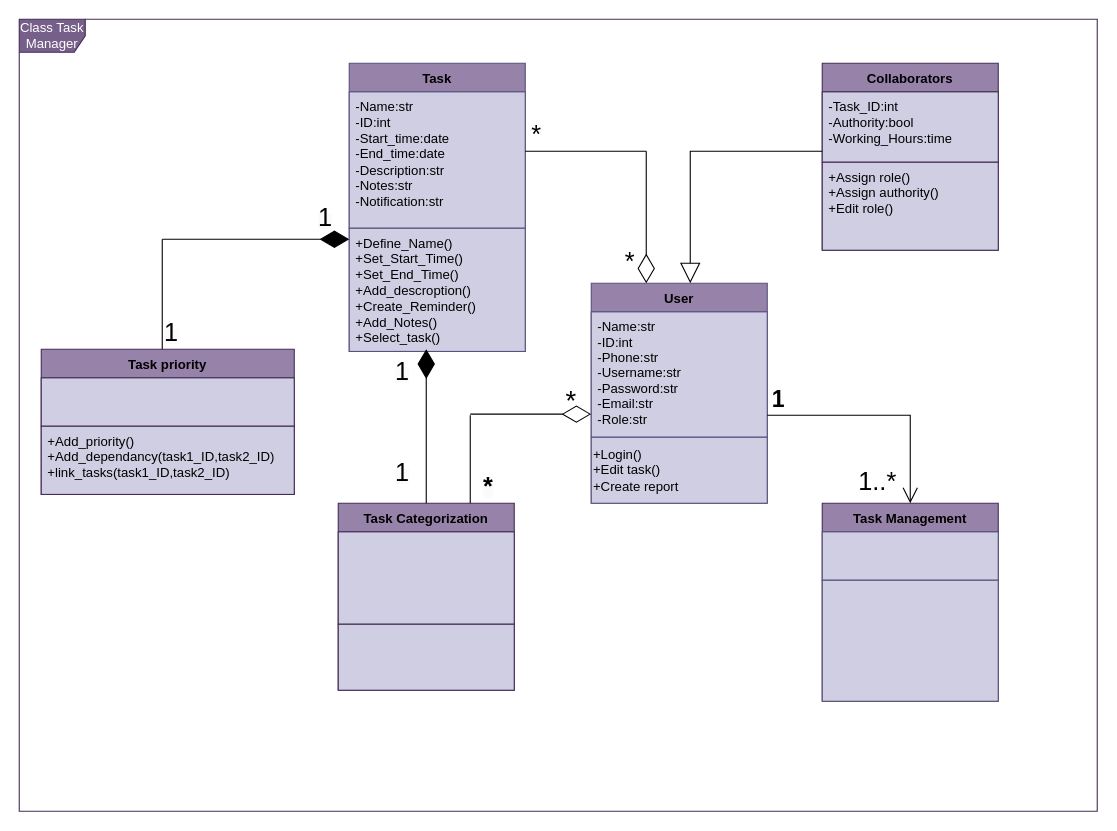
The diagram is 1117 pixels wide and 831 high, and some of its shapes have lost their labels. Each missing label, with the box of its shape:
+Add_collaborators() +Create_category() +Delete() +Recuring() +Mark_As_Done(): (821, 579, 998, 701)
+Define_Nme() +Create_Description() +Add_Deadline: (337, 623, 514, 690)
+Task_ID:int +priority_level:int: (40, 377, 294, 426)
-Name:str -Task_ID:int -User_ID:int -User_role:str -Description: (337, 531, 514, 624)
-Task_ID :Int -Collabortors:list<user>: (821, 531, 998, 580)
